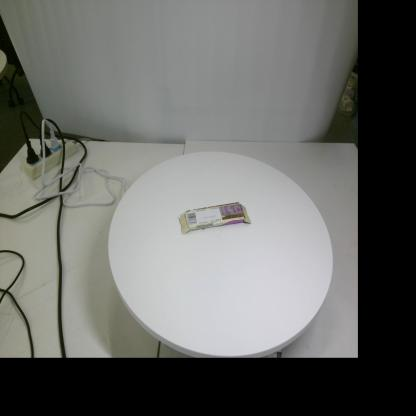Chocolate: (179, 202, 251, 234)
